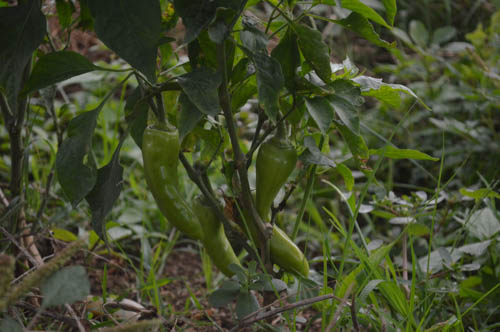ChiliPepper: (144, 128, 199, 239), (245, 218, 309, 274), (251, 143, 293, 224), (197, 201, 237, 271)
